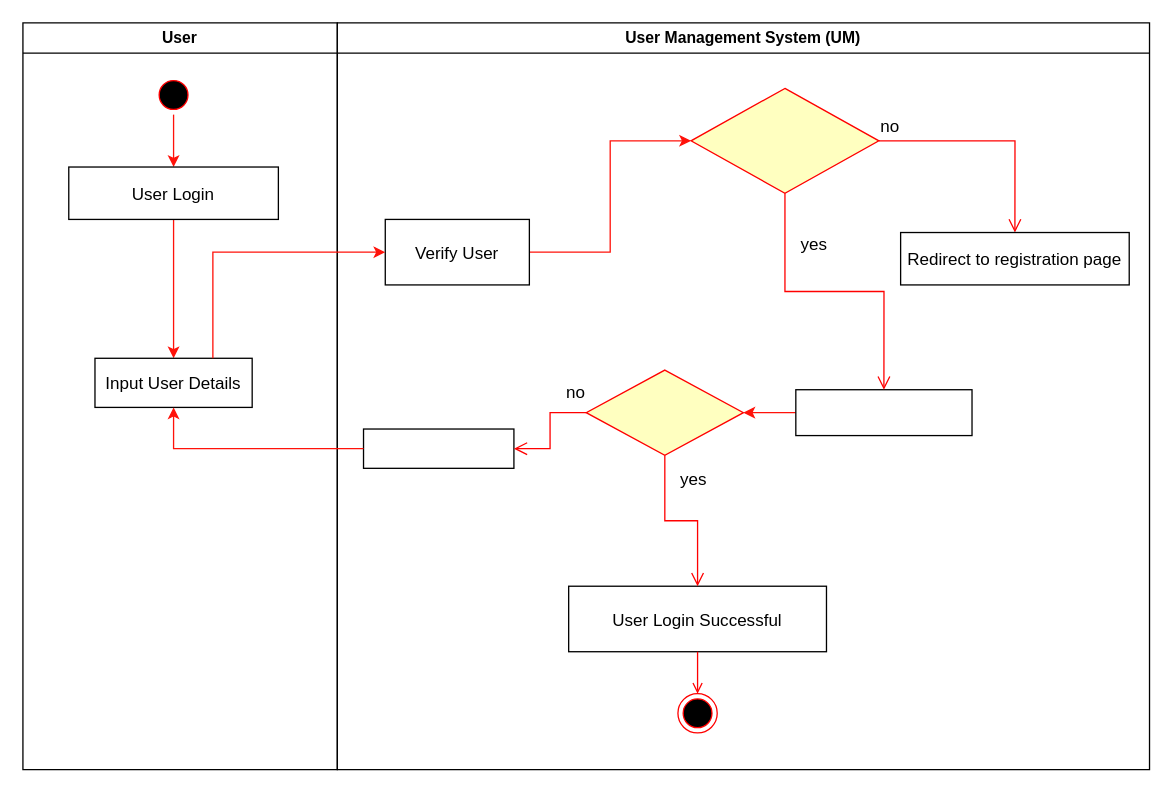
Image size: 1172x793. Some labels were removed from this diagram. Here are the shapes that lost their labels. From the top down, the centre of each, then its label:
At point 784,140: "User Authentication".
At point 664,412: "Password Check".
At point 883,412: "Verify Password".
At point 438,448: "Error prompt".
